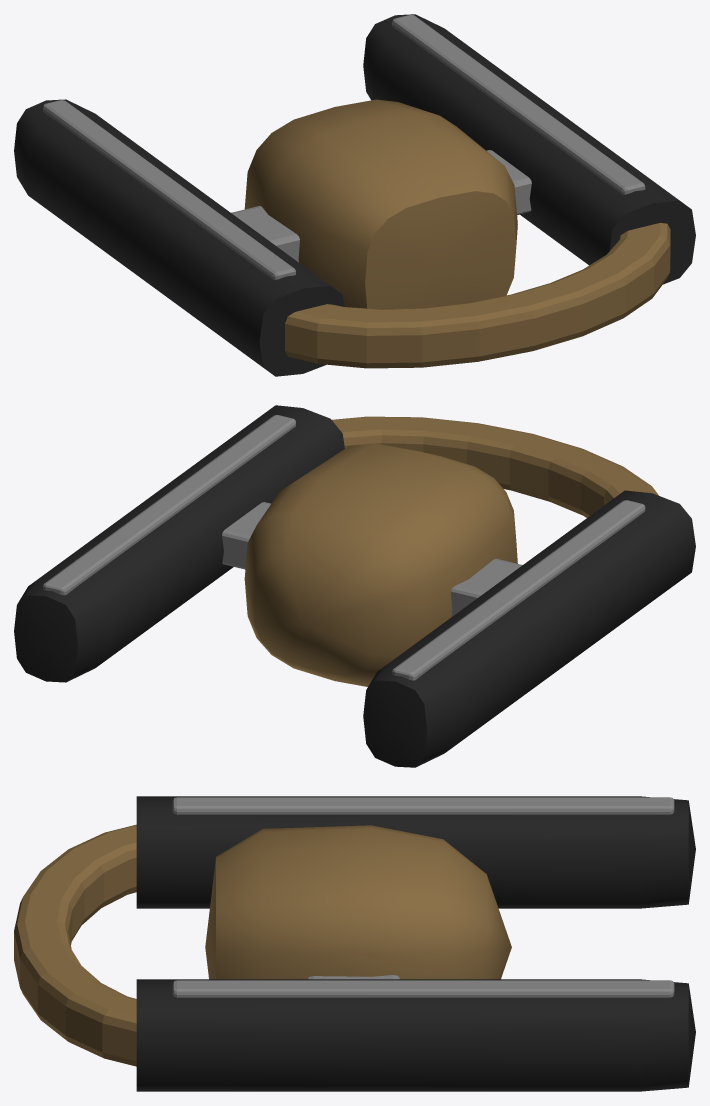
File: uship.glb
The picture shows the model from 3 angles, top to bottom: view 1: azimuth 30°, elevation 25°; view 2: azimuth 150°, elevation 25°; view 3: azimuth 270°, elevation 25°; orthographic projection. The views are drawn at different scales.
Parts seen in each view (by area): view 1: pod, arm, arc, arm.001, arm_stripe, arm_stripe.001, strut, strut.001; view 2: pod, arm, arm.001, arc, arm_stripe, arm_stripe.001, strut, strut.001; view 3: arm.001, pod, arm, arc, arm_stripe, arm_stripe.001.
Part boxes in pixels (bbox=[...]): pod: bbox=[244, 99, 517, 309]; arm: bbox=[14, 99, 344, 376]; arc: bbox=[285, 223, 670, 368]; arm.001: bbox=[363, 14, 695, 284]; arm_stripe: bbox=[43, 100, 295, 279]; arm_stripe.001: bbox=[392, 14, 645, 194]; strut: bbox=[231, 206, 299, 262]; strut.001: bbox=[486, 150, 531, 215]; pod: bbox=[244, 443, 517, 686]; arm: bbox=[363, 490, 695, 767]; arm.001: bbox=[14, 405, 344, 682]; arc: bbox=[332, 416, 658, 517]; arm_stripe: bbox=[392, 500, 645, 680]; arm_stripe.001: bbox=[43, 415, 295, 595]; strut: bbox=[451, 558, 522, 616]; strut.001: bbox=[222, 502, 270, 569]; arm.001: bbox=[136, 979, 695, 1091]; pod: bbox=[205, 825, 511, 979]; arm: bbox=[136, 796, 695, 908]; arc: bbox=[14, 824, 136, 1066]; arm_stripe: bbox=[172, 797, 674, 814]; arm_stripe.001: bbox=[172, 980, 674, 997].
Bounding box in the file's own units: 15 × 5.95 × 18.9.
